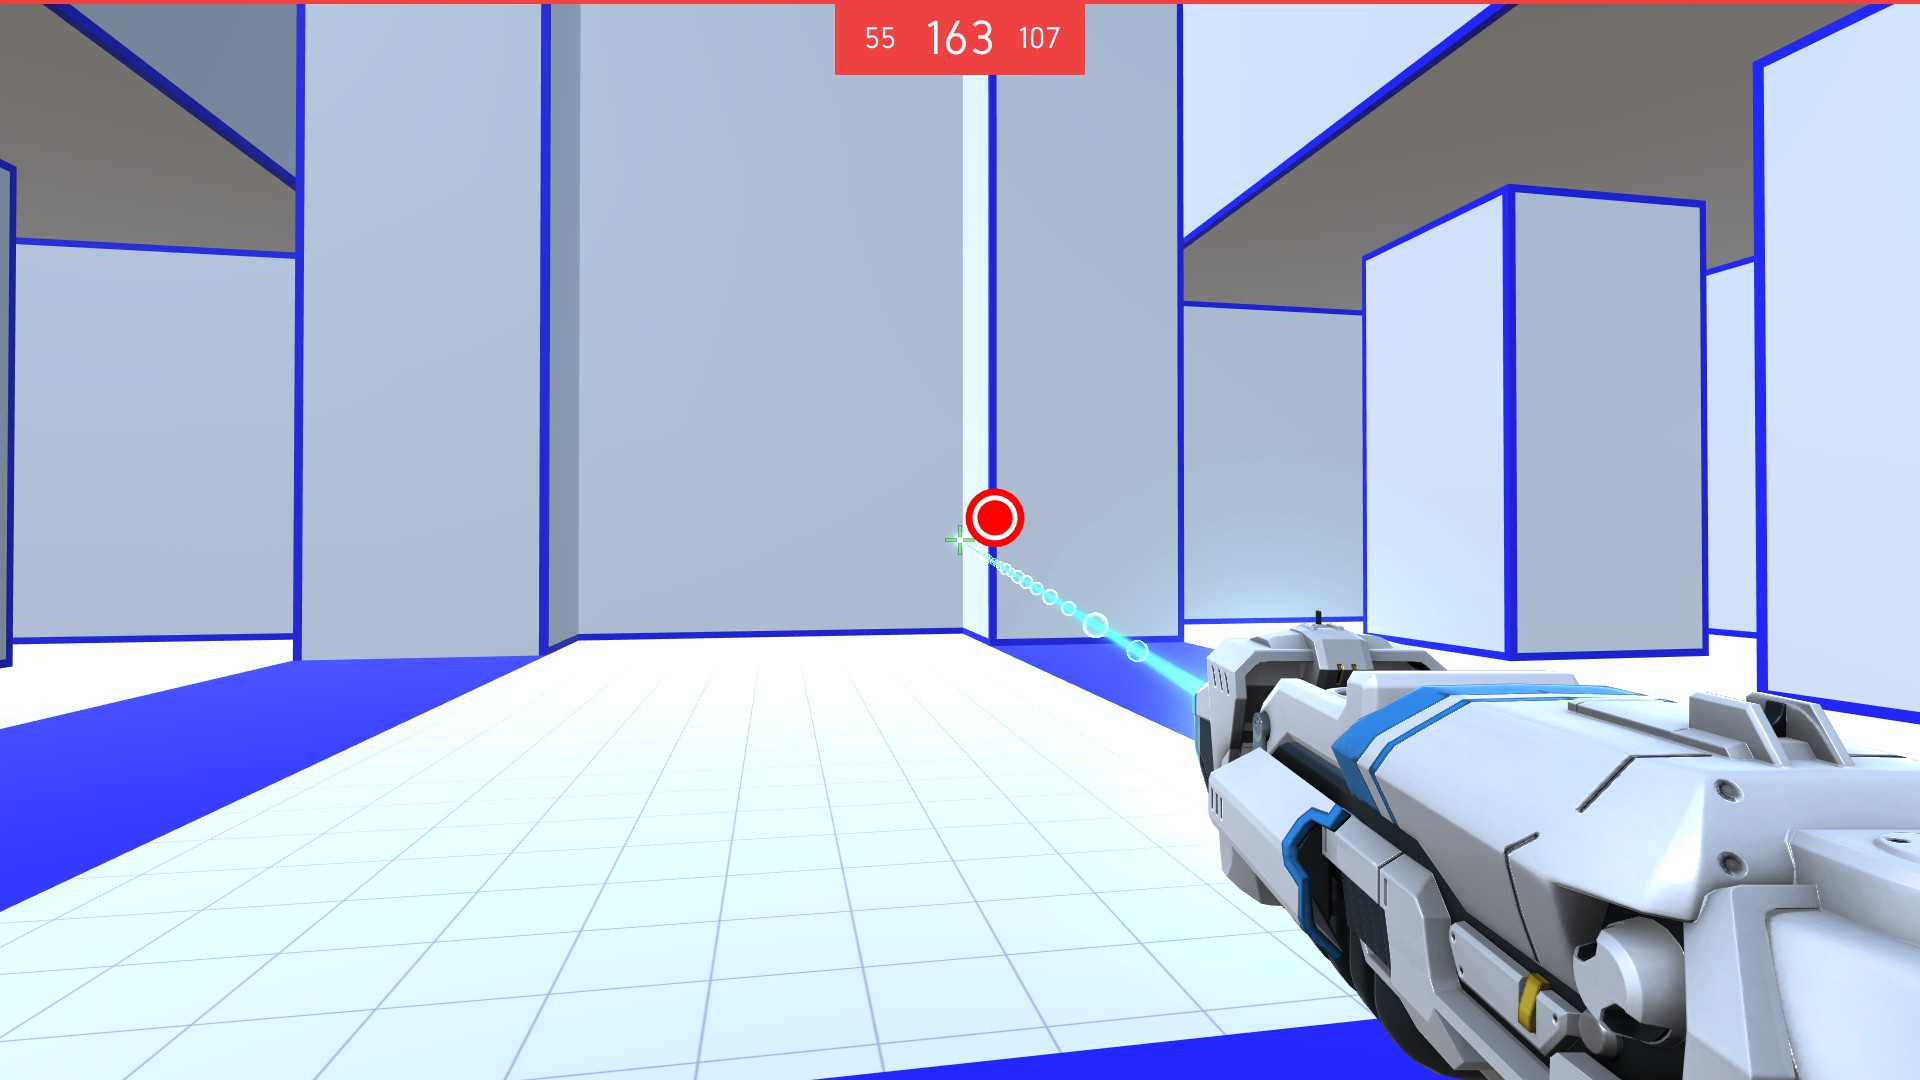target: (963, 485, 1029, 547)
